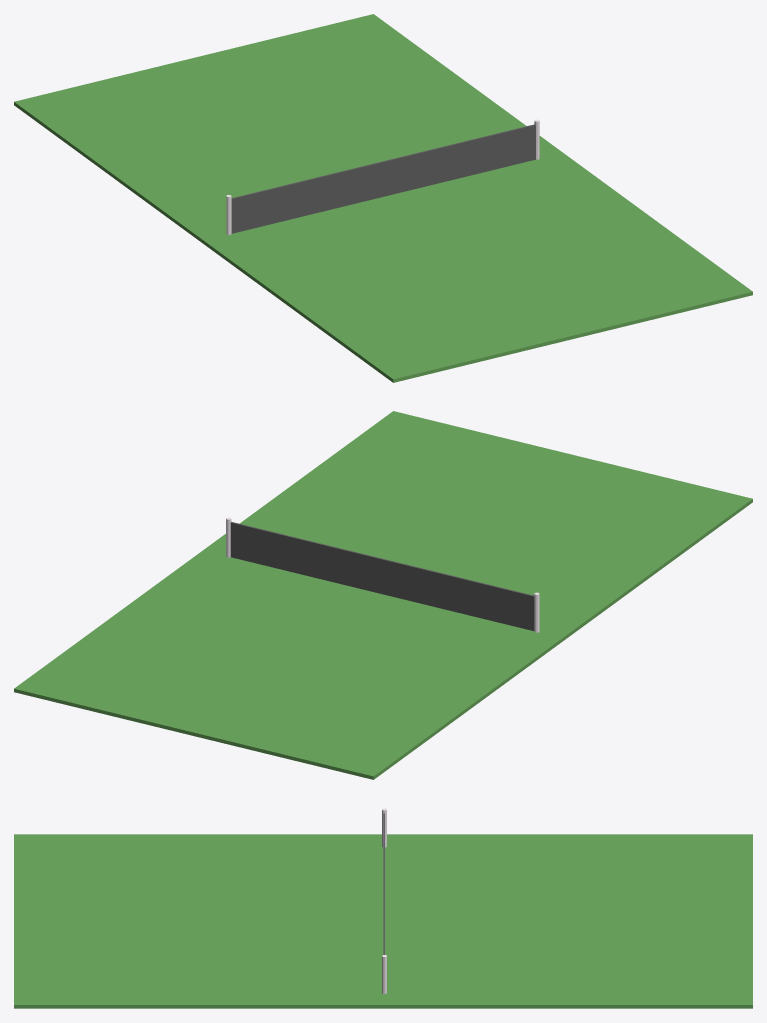
The model's file is Lapangan Tennis.fbx.
The picture shows the model from 3 angles, top to bottom: view 1: azimuth 30°, elevation 25°; view 2: azimuth 150°, elevation 25°; view 3: azimuth 270°, elevation 25°; orthographic projection. The views are drawn at different scales.
Visible parts, largest first — view 1: Lapangan, Jaring; view 2: Lapangan, Jaring; view 3: Lapangan.
Part boxes in pixels (bbox=[...]): Lapangan: bbox=[14, 14, 752, 382]; Jaring: bbox=[231, 124, 535, 233]; Lapangan: bbox=[14, 411, 752, 779]; Jaring: bbox=[230, 522, 534, 630]; Lapangan: bbox=[14, 834, 752, 1008].
Bounding box in the file's own units: 854 × 103 × 1561.
